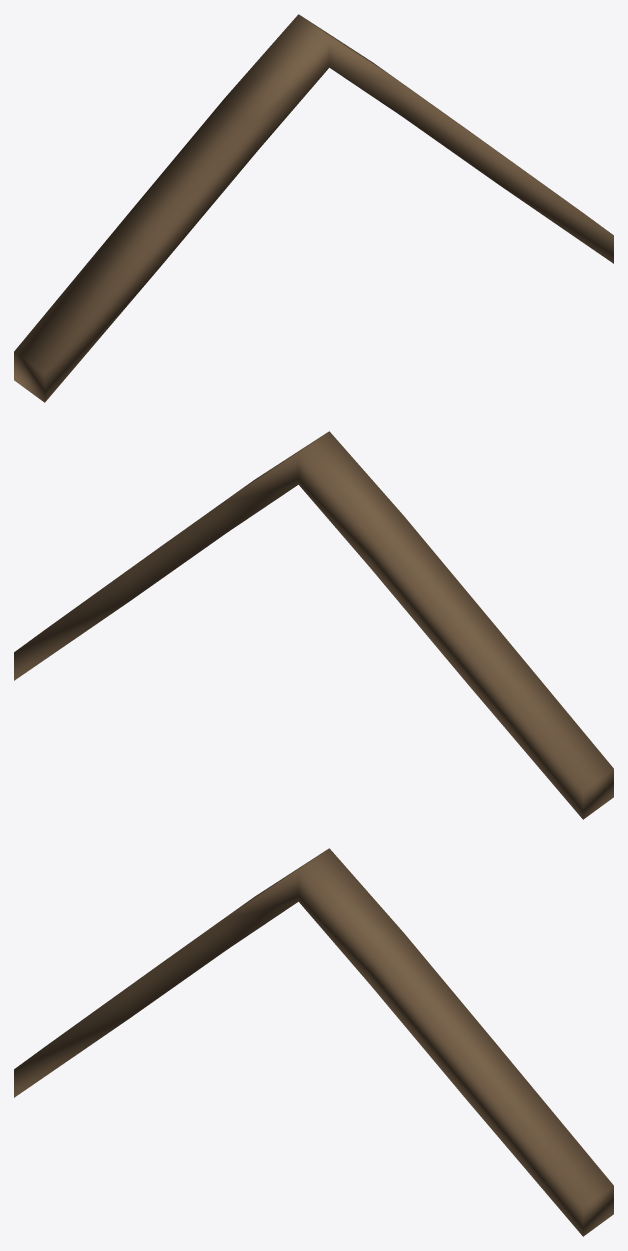
Rendered from rpgpp_av_roof_end_01_6x3_beam_a.gltf.
3 views of the same model, one above another, from view 1: azimuth 30°, elevation 25°; view 2: azimuth 150°, elevation 25°; view 3: azimuth 330°, elevation 25° (orthographic).
Parts seen in each view (by area): view 1: rpgpp_av_roof_end_01_6x3_beam_a; view 2: rpgpp_av_roof_end_01_6x3_beam_a; view 3: rpgpp_av_roof_end_01_6x3_beam_a.
Boxes of the visible parts, box(x1,y1,x2,y2) form: rpgpp_av_roof_end_01_6x3_beam_a: box(14, 14, 613, 402); rpgpp_av_roof_end_01_6x3_beam_a: box(14, 431, 613, 819); rpgpp_av_roof_end_01_6x3_beam_a: box(14, 848, 613, 1236).
Size of the model in its own units: 0.0697 by 0.0347 by 0.00654.
Materials: 1 (1 with a texture image).
